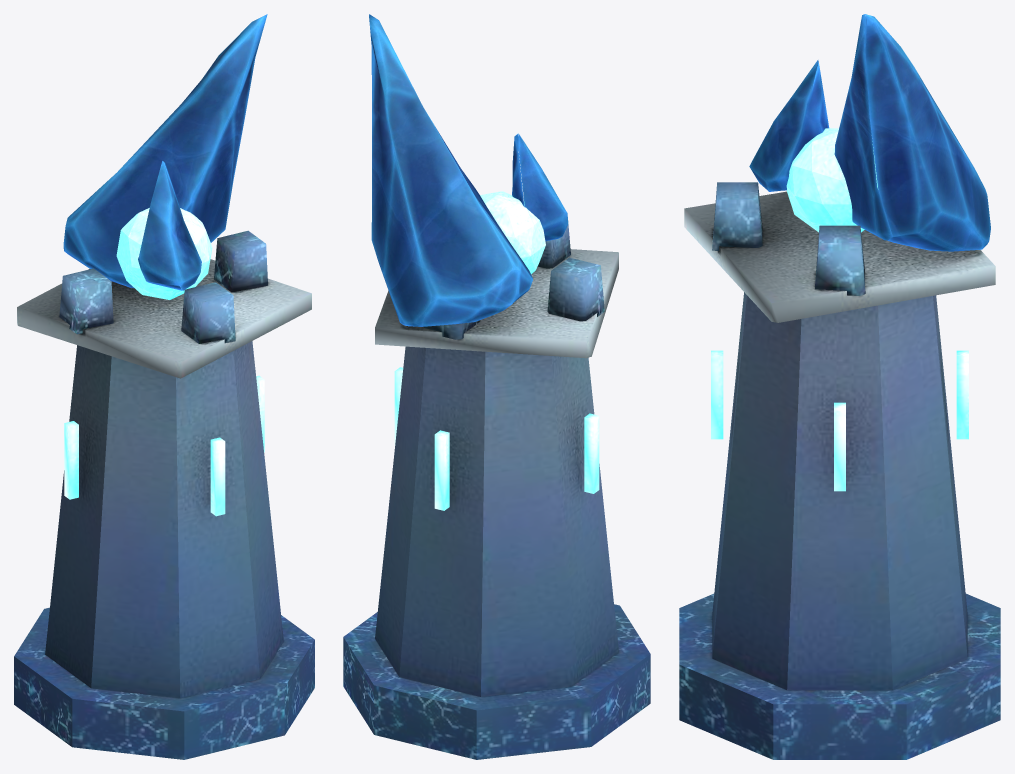
File: tower1_frost.glb
3 views of the same model, side by side, from view 1: azimuth 30°, elevation 25°; view 2: azimuth 150°, elevation 25°; view 3: azimuth 270°, elevation 25° (orthographic). The views are drawn at different scales.
Visible parts, largest first — view 1: tower1_frost; view 2: tower1_frost; view 3: tower1_frost.
Part boxes in pixels (<box>): tower1_frost: <box>14,14,314,759</box>; tower1_frost: <box>343,14,650,759</box>; tower1_frost: <box>679,14,1000,759</box>.
Size of the model in its own units: 3.14 by 8 by 3.14.
2 materials, 2 textured.
